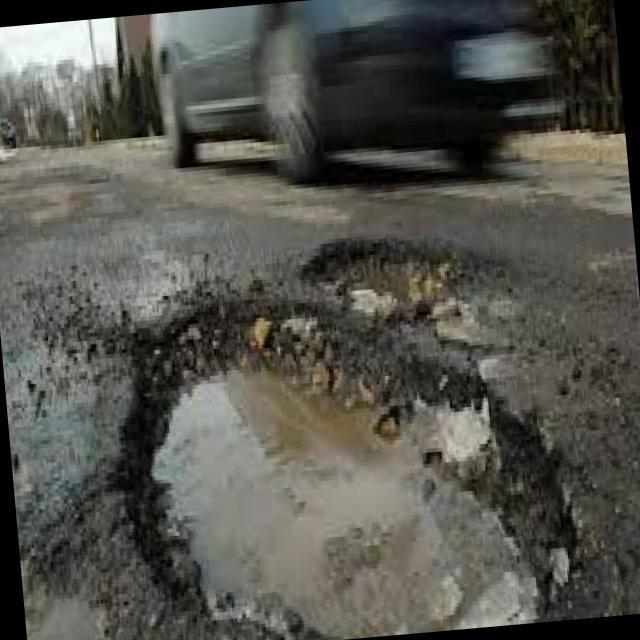Pothole: (116, 243, 570, 640)
